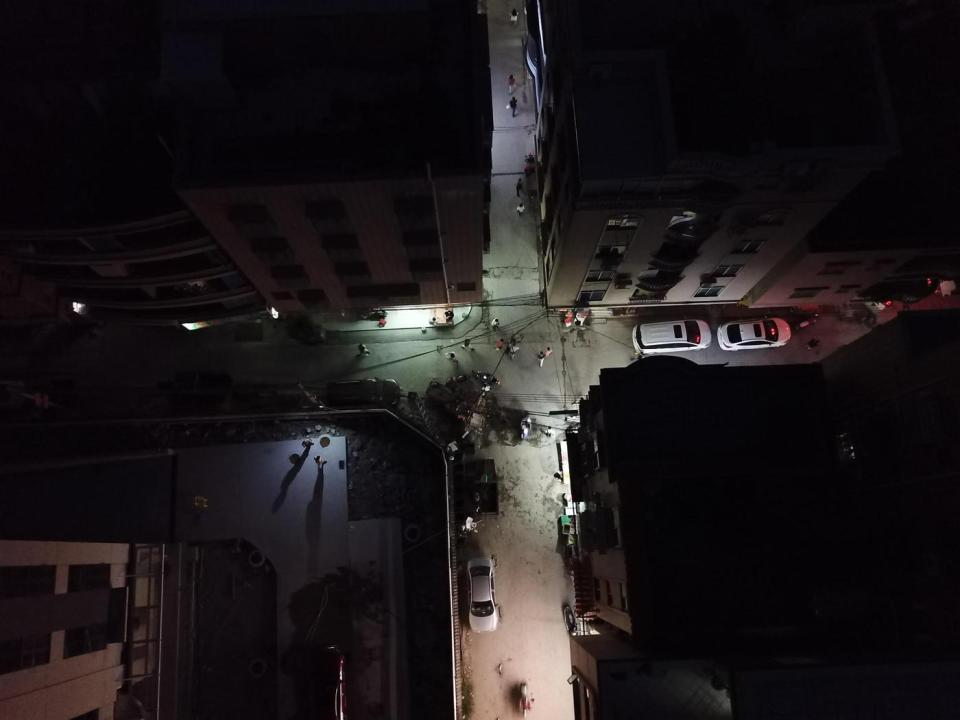car: (633, 314, 712, 354), (716, 316, 792, 352), (466, 557, 498, 633)
van: (326, 376, 401, 408)
